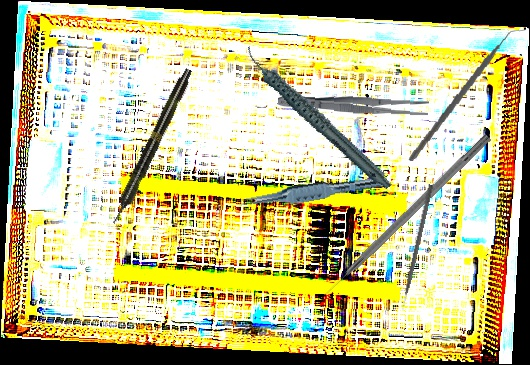Chopper: (408, 18, 527, 172)
Dressing Forceps: (277, 90, 429, 119)
Handpiece: (242, 21, 394, 214), (107, 66, 196, 227)
Hook Surgical: (320, 132, 492, 297), (398, 183, 434, 311)
Tissue Forceps: (236, 168, 386, 215)
